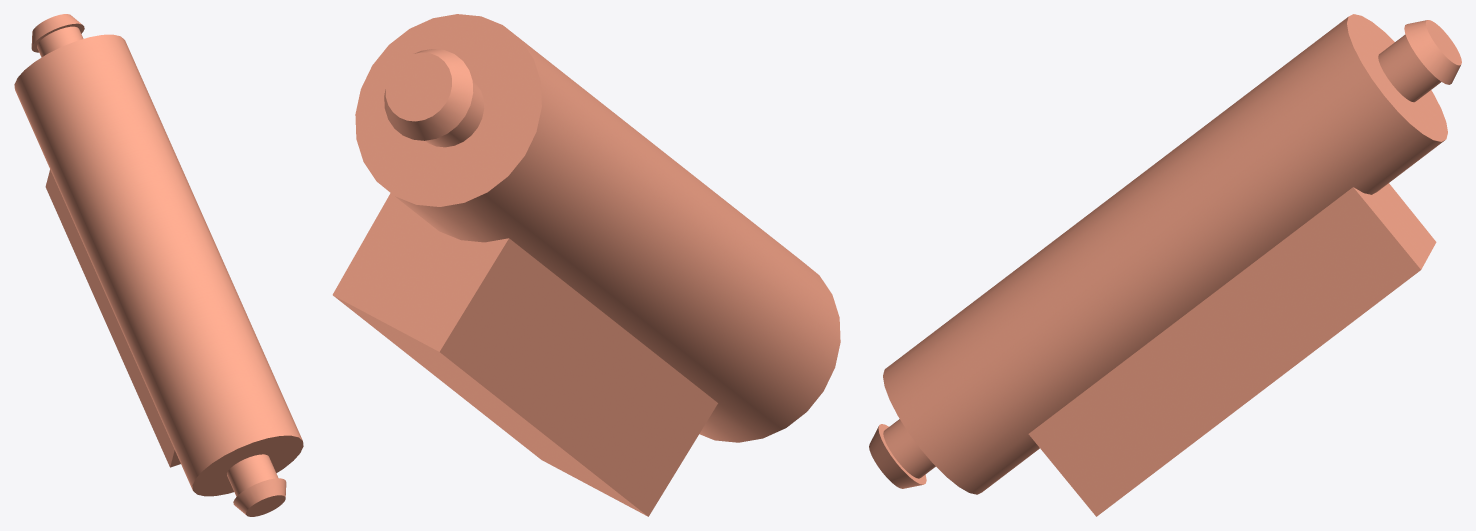
Rendered from Tank_Front_new.fbx.
3 renders of one model, left to right at view 1: azimuth 30°, elevation 25°; view 2: azimuth 150°, elevation 25°; view 3: azimuth 270°, elevation 25°, orthographic. The views are drawn at different scales.
Parts seen in each view (by area): view 1: 02_BrewTank_Läutern.005; view 2: 02_BrewTank_Läutern.005; view 3: 02_BrewTank_Läutern.005.
Part boxes in pixels (x1=…): 02_BrewTank_Läutern.005: x1=14, y1=14, x2=303, y2=516; 02_BrewTank_Läutern.005: x1=332, y1=14, x2=840, y2=516; 02_BrewTank_Läutern.005: x1=869, y1=14, x2=1461, y2=516.
Bounding box in the file's own units: 6.71 × 20.64 × 23.5.
